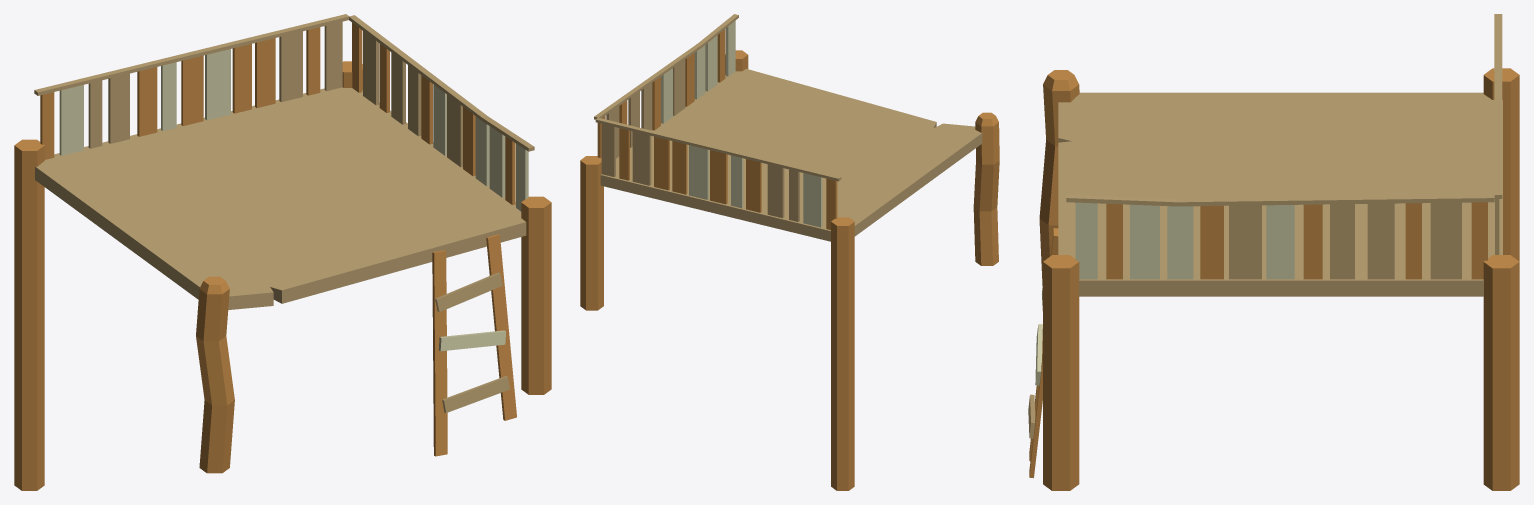
Rendered from platform.fbx.
3 views of the same model, side by side, from view 1: azimuth 30°, elevation 25°; view 2: azimuth 150°, elevation 25°; view 3: azimuth 270°, elevation 25° (orthographic). The views are drawn at different scales.
Parts seen in each view (by area): view 1: Plane, Cylinder.002, Cylinder.004, Cylinder.003, Cube.009, Cube.035, Cube.008, Cube.022, Cube.027, Cube.032, Cube.030, Cube.021 (+25 smaller); view 2: Plane, Cylinder.002, Cylinder, Cylinder.004, Cube.035, Cube.022, Cube.027, Cube.030, Cube.032, Cube.021, Cube.034, Cube.024 (+14 smaller); view 3: Plane, Cylinder, Cylinder.003, Cube.022, Cylinder.002, Cylinder.004, Cube.018, Cube.013, Cube.016, Cube.004, Cube.020, Cube.011 (+9 smaller).
Boxes of the visible parts, left/top/right/bottom form: Plane: left=35, top=87, right=526, bottom=309; Cylinder.002: left=14, top=139, right=44, bottom=490; Cylinder.004: left=196, top=276, right=234, bottom=473; Cylinder.003: left=521, top=196, right=551, bottom=394; Cube.009: left=432, top=250, right=447, bottom=456; Cube.035: left=34, top=14, right=349, bottom=95; Cube.008: left=486, top=234, right=516, bottom=420; Cube.022: left=349, top=15, right=534, bottom=151; Cube.027: left=205, top=49, right=230, bottom=120; Cube.032: left=59, top=85, right=83, bottom=155; Cube.030: left=279, top=31, right=302, bottom=102; Cube.021: left=181, top=55, right=203, bottom=125; Plane: left=600, top=68, right=982, bottom=241; Cylinder.002: left=831, top=217, right=854, bottom=490; Cylinder: left=580, top=156, right=603, bottom=310; Cylinder.004: left=973, top=112, right=999, bottom=265; Cube.035: left=595, top=117, right=841, bottom=181; Cube.022: left=594, top=14, right=738, bottom=119; Cube.027: left=689, top=145, right=708, bottom=199; Cube.030: left=632, top=131, right=651, bottom=185; Cube.032: left=803, top=173, right=822, bottom=227; Cube.021: left=710, top=150, right=727, bottom=204; Cube.034: left=767, top=164, right=784, bottom=218; Cube.024: left=746, top=159, right=761, bottom=212; Plane: left=1058, top=92, right=1502, bottom=296; Cylinder: left=1483, top=255, right=1519, bottom=490; Cylinder.003: left=1043, top=255, right=1079, bottom=490; Cube.022: left=1066, top=194, right=1494, bottom=206; Cylinder.002: left=1483, top=68, right=1519, bottom=261; Cylinder.004: left=1039, top=70, right=1079, bottom=285; Cube.018: left=1430, top=202, right=1461, bottom=279; Cube.013: left=1229, top=205, right=1261, bottom=279; Cube.016: left=1130, top=204, right=1159, bottom=279; Cube.004: left=1266, top=205, right=1294, bottom=279; Cube.020: left=1367, top=203, right=1394, bottom=279; Cube.011: left=1167, top=206, right=1193, bottom=279.
Size of the model in its own units: 536 by 581 by 552.
